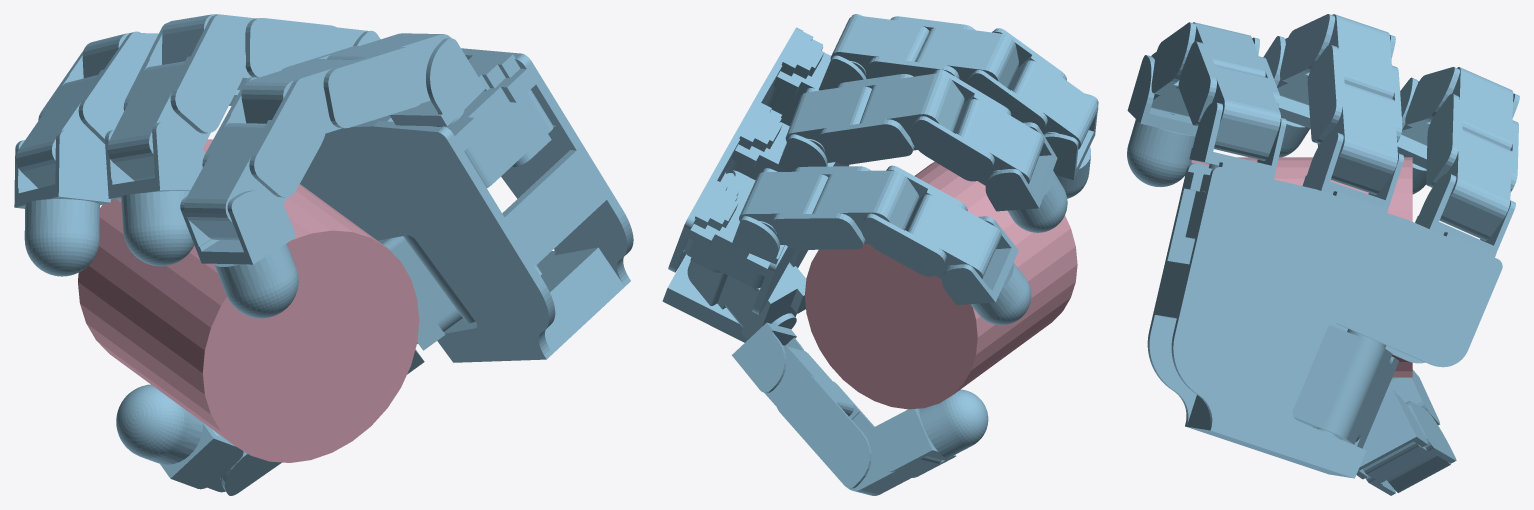
3 views of the same model, side by side, from view 1: azimuth 30°, elevation 25°; view 2: azimuth 150°, elevation 25°; view 3: azimuth 270°, elevation 25° (orthographic). The views are drawn at different scales.
Visible parts, largest first — view 1: world; view 2: world; view 3: world.
Boxes of the visible parts, left/top/right/bottom form: world: left=14, top=14, right=633, bottom=495; world: left=662, top=14, right=1098, bottom=495; world: left=1127, top=14, right=1519, bottom=495.
Bounding box in the file's own units: 0.1826 × 0.1831 × 0.1422.
